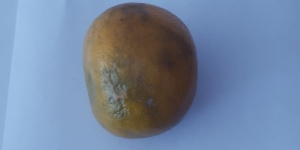BAD: (81, 2, 200, 142)
